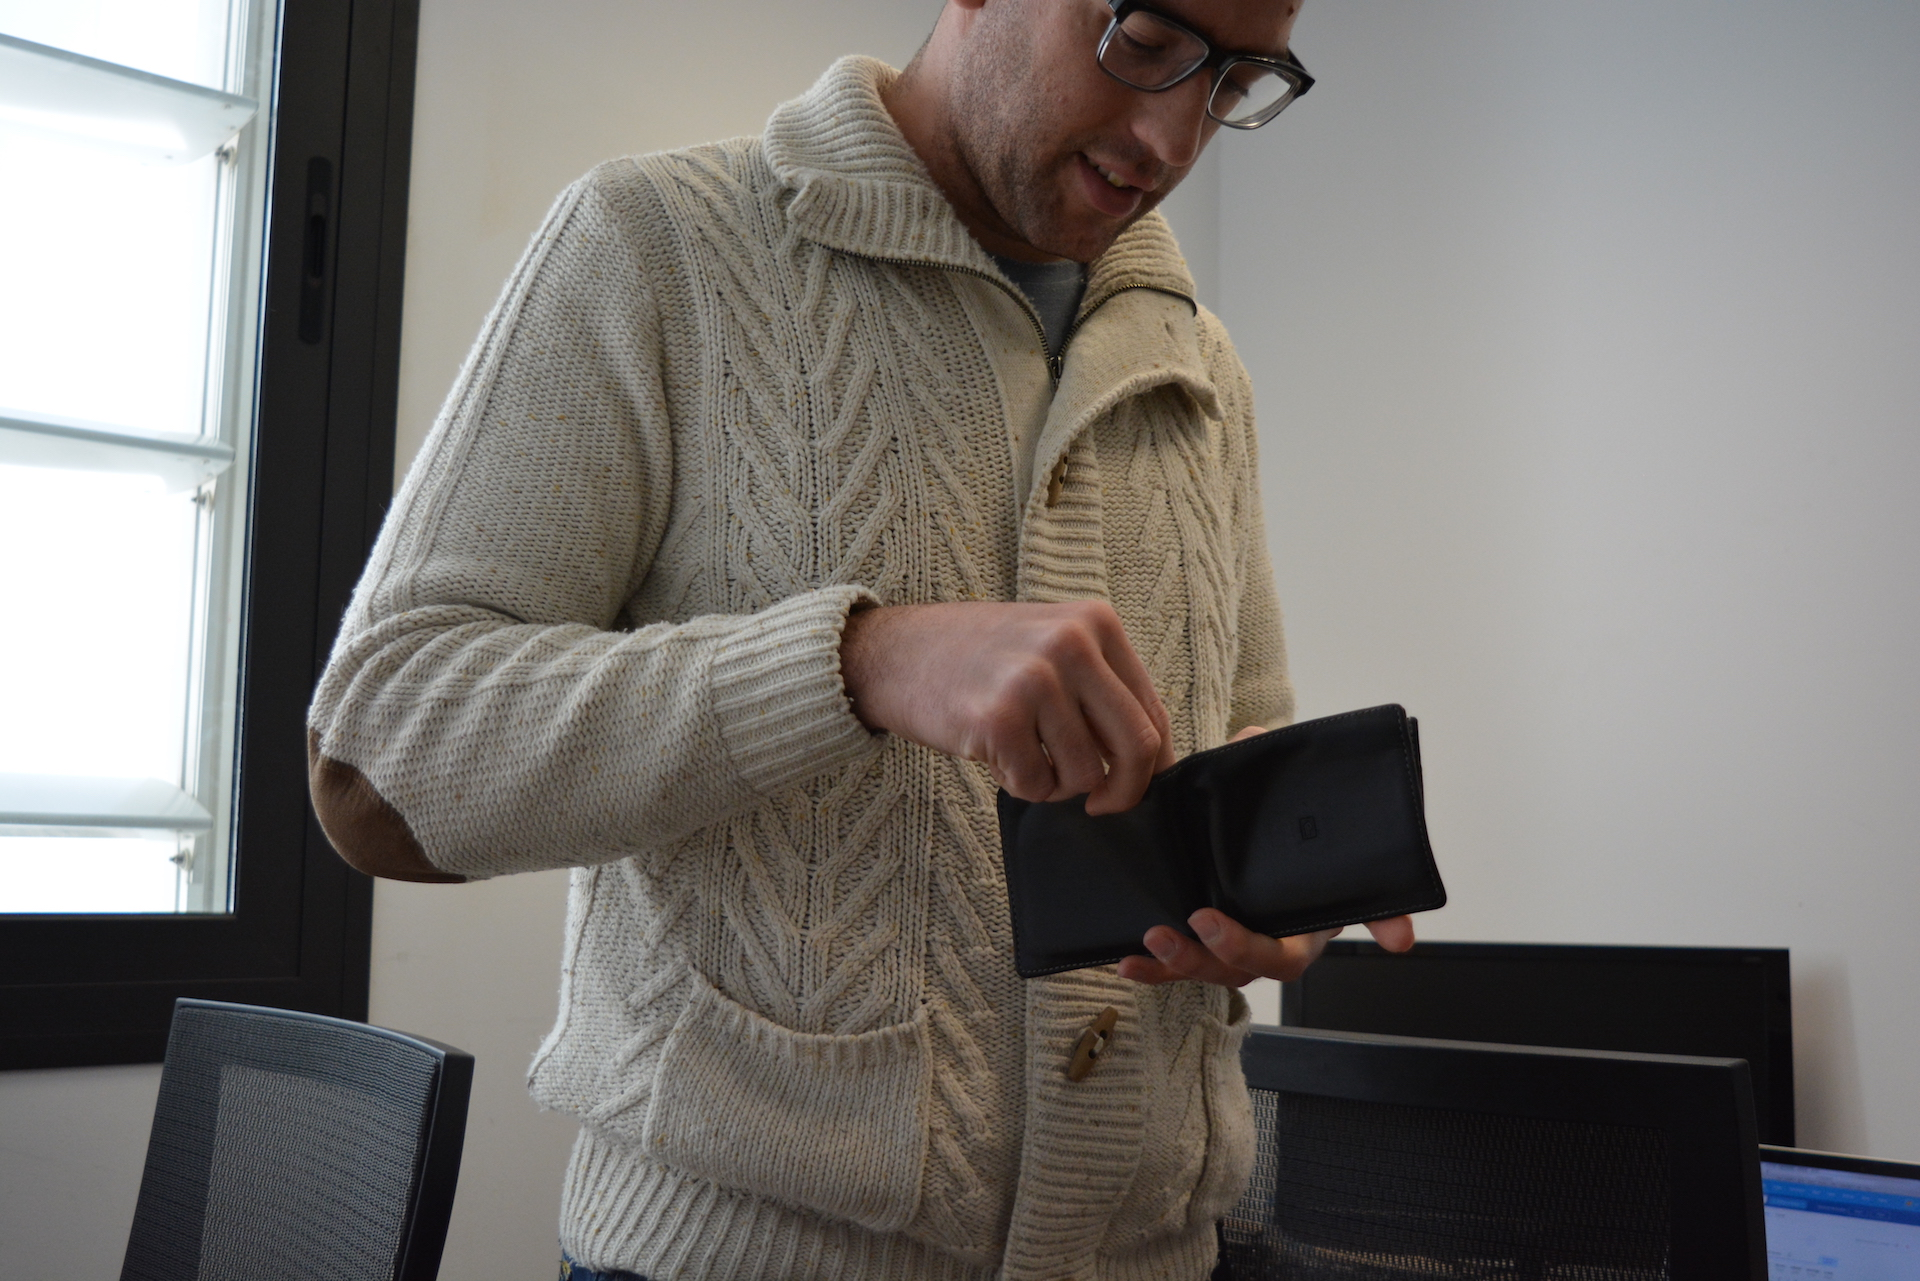monedero: (994, 701, 1450, 982)
